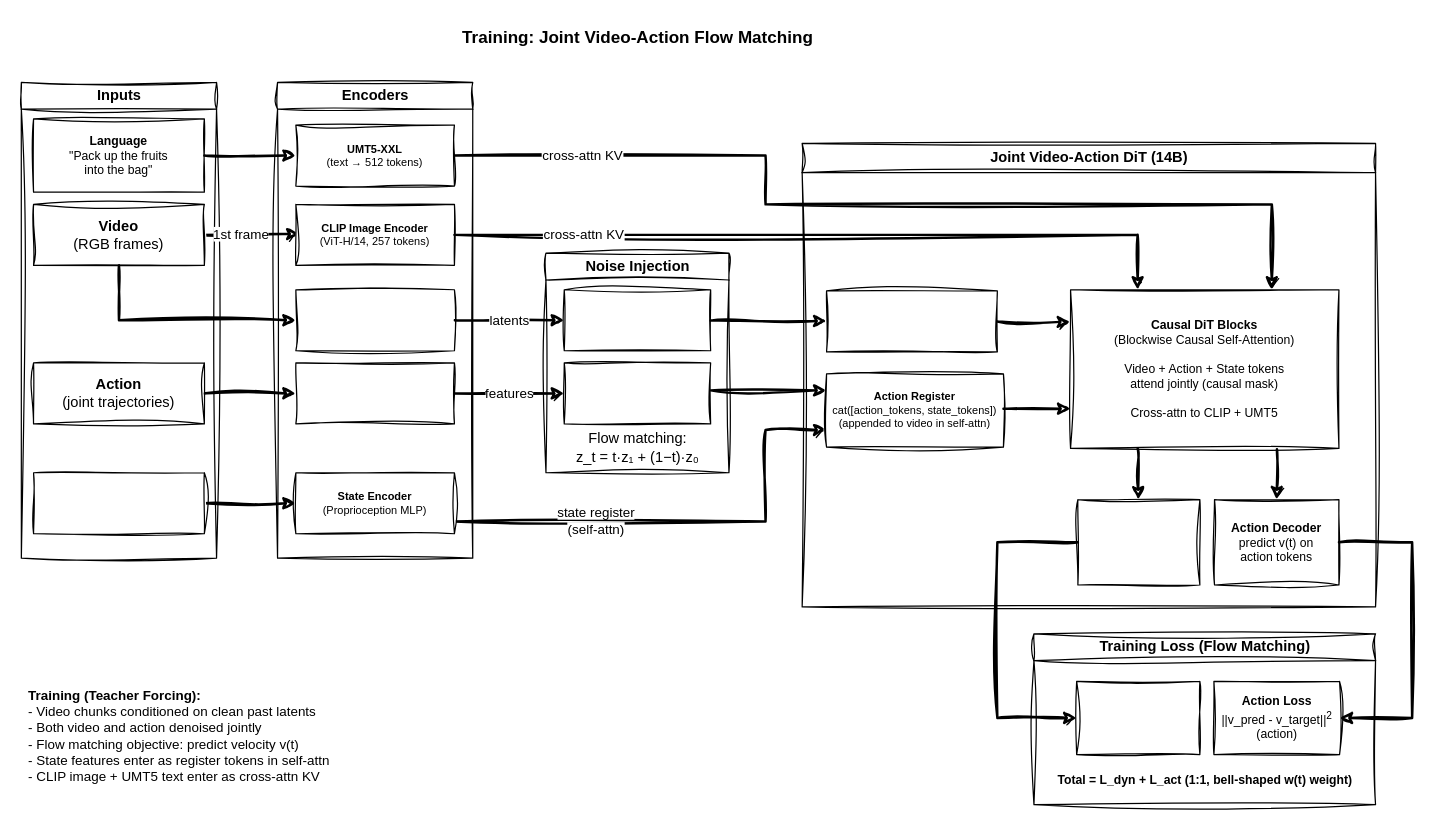
Image size: 1444x826. Some labels were removed from this diagram. The shapes that lost their labels are listed below. From the top down, each one's centre as x and y in pixels, then its label:
At [374,320]: "VAE Encoder (Wan2.1)".
At [637,320]: "+ Noise (video latents)".
At [911,321]: "Video Latent Tokens (noisy, from VAE)".
At [374,393]: "Action Encoder (MLP + timestep)".
At [637,393]: "+ Noise (action tokens)".
At [118,503]: "Proprioception (joint positions)".
At [1138,541]: "Video Head predict v(t) on video latents".
At [1137,717]: "Dynamics Loss ||v_pred - v_target|| 2 (video)".
